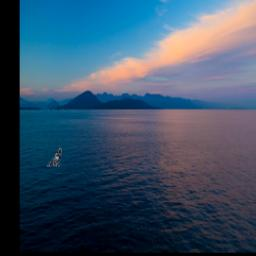Crow: (46, 148, 62, 167)
